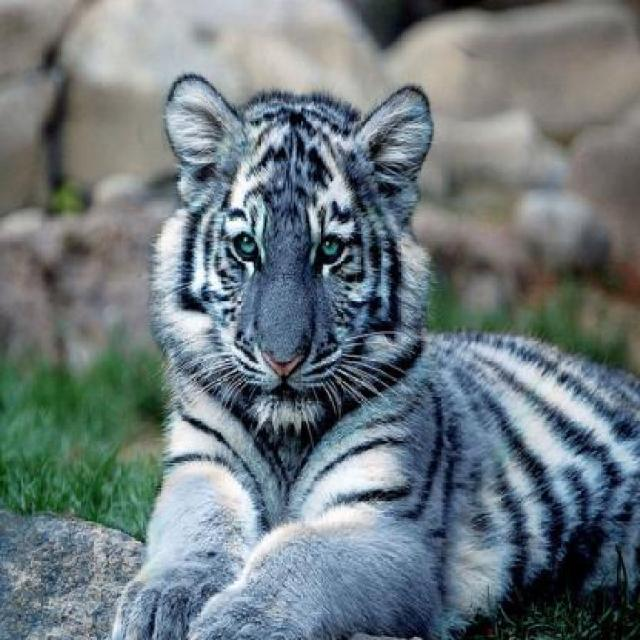Tiger: (108, 66, 640, 640)
